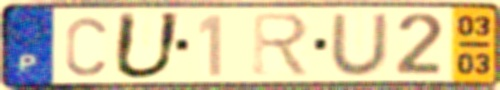1: (197, 13, 225, 78)
2: (394, 11, 449, 78)
C: (62, 14, 109, 78)
R: (250, 11, 314, 79)
U: (109, 10, 186, 82), (327, 11, 391, 78)
